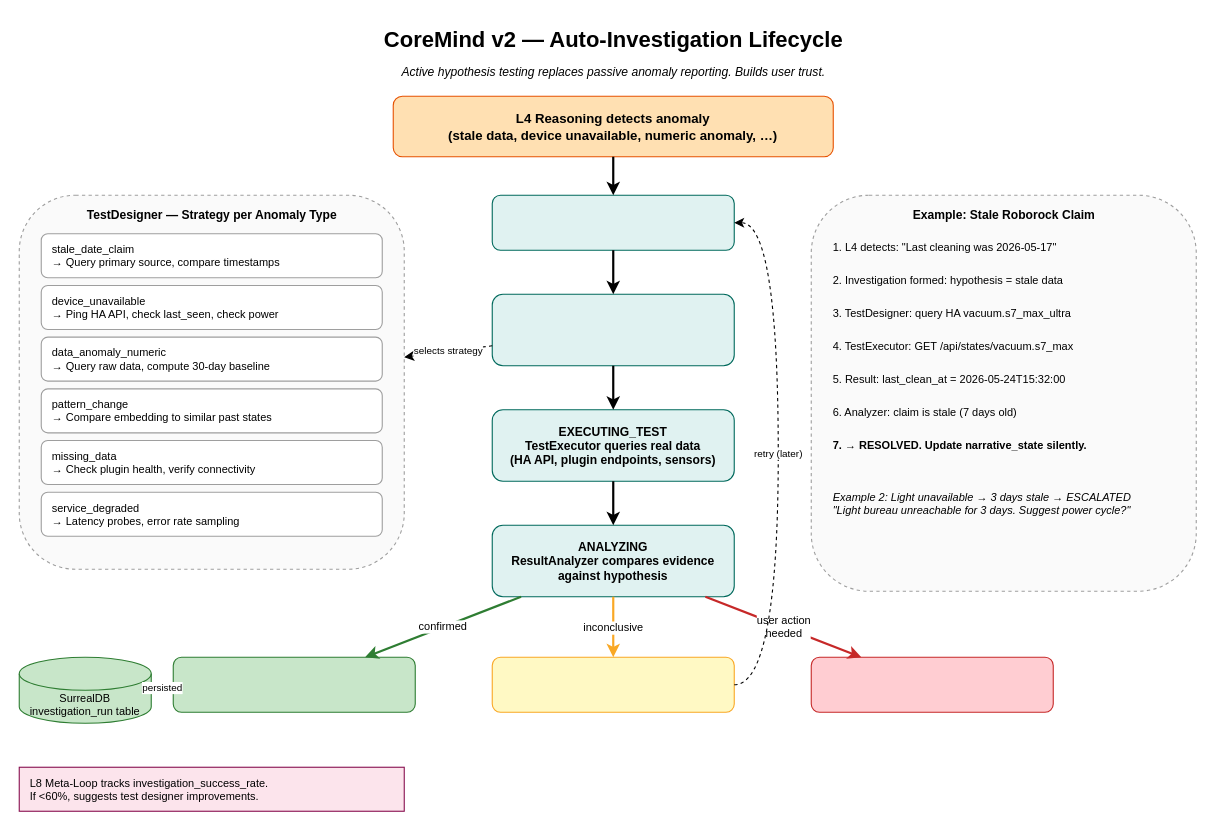
The diagram is 1216 pixels wide and 831 high, and some of its shapes have lost their labels. The shapes that lost their labels are listed below. From the top down, each one's box as (x1, y1, x2, y2) in pixels, then its label:
(491, 194, 734, 250): FORMED (anomaly identified)
(491, 293, 734, 366): DESIGNING_TEST TestDesigner selects strategy based on anomaly type
(172, 656, 415, 712): RESOLVED (silent — update narrative)
(491, 656, 734, 712): UNRESOLVED (re-queue for later retry)
(810, 656, 1053, 712): ESCALATED (notify user with evidence)
